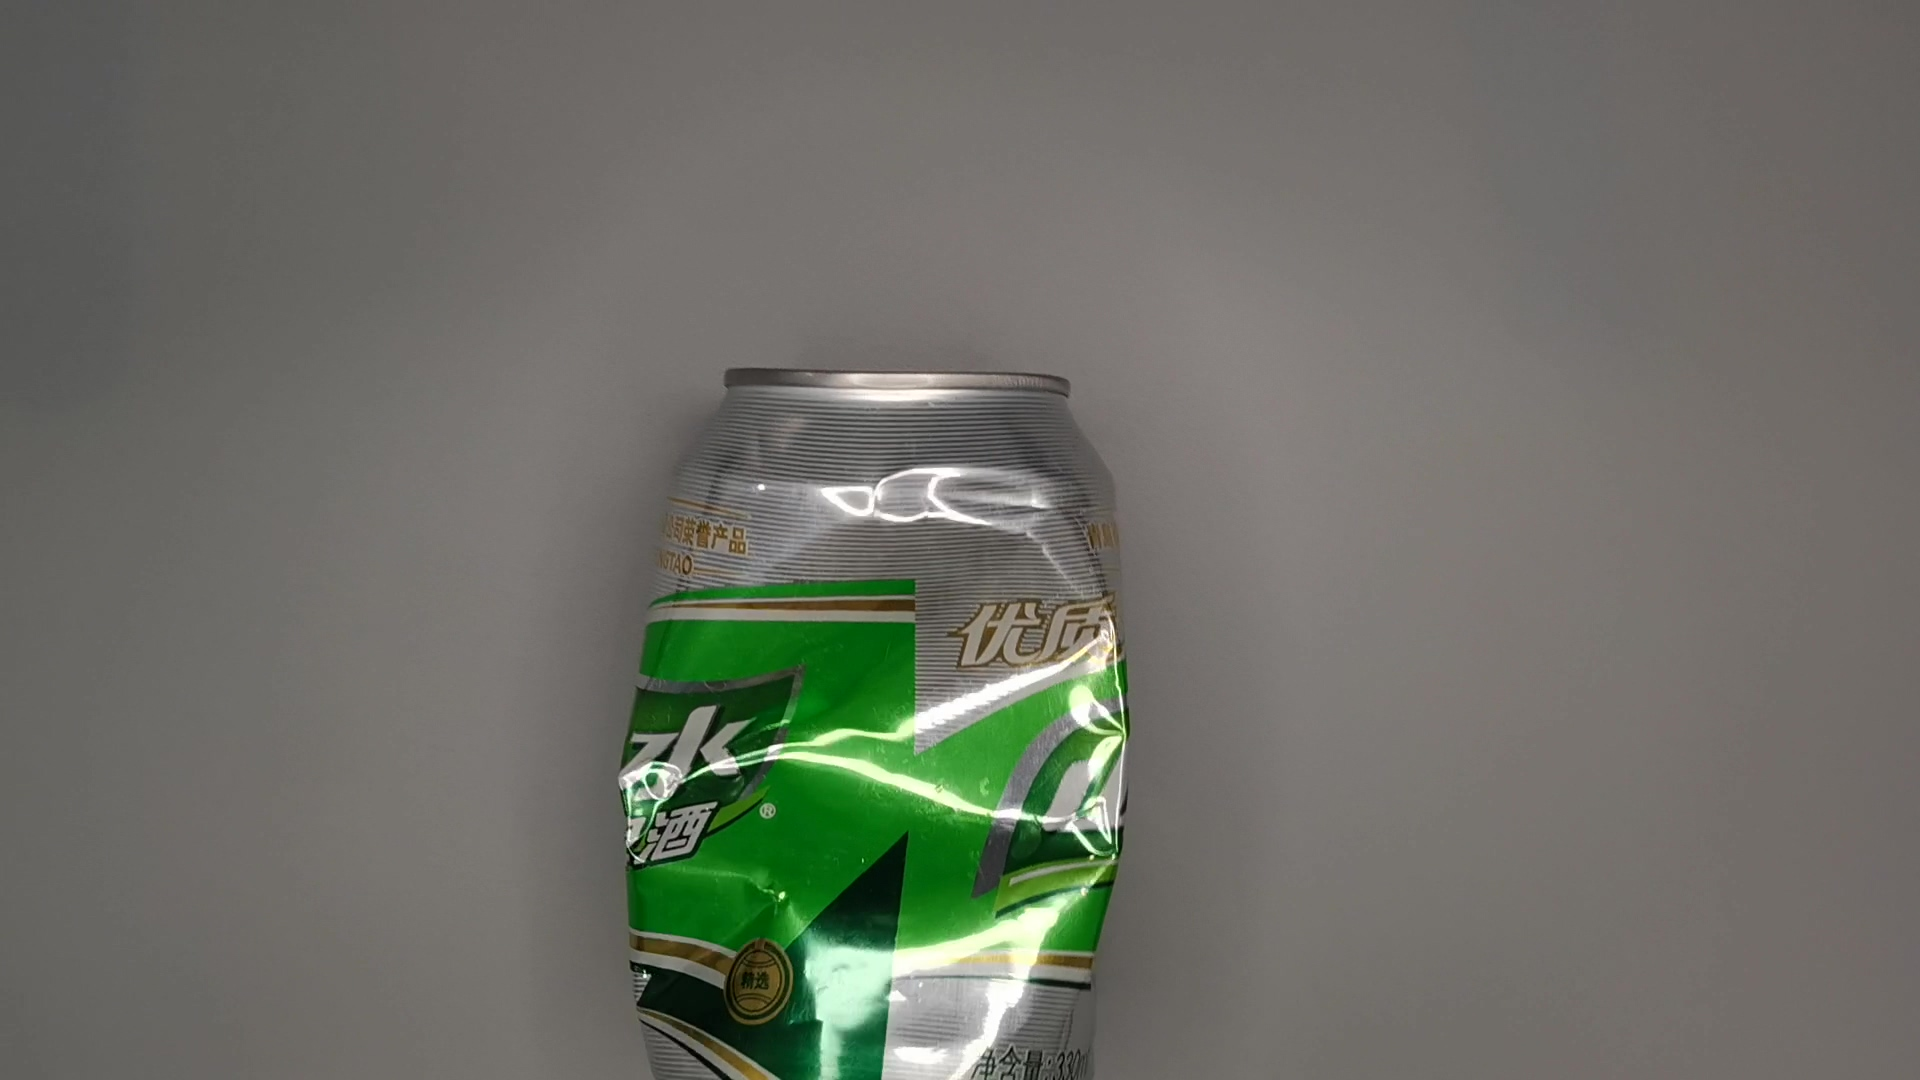can: (593, 353, 1162, 1080)
